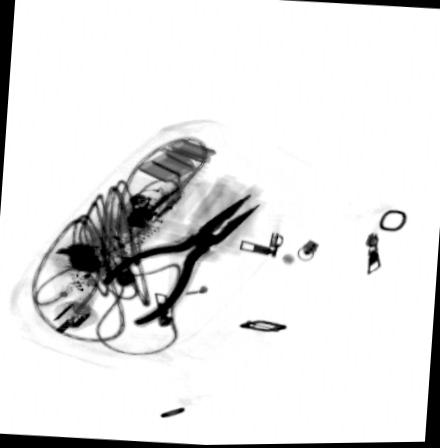Pliers: (101, 193, 260, 329)
